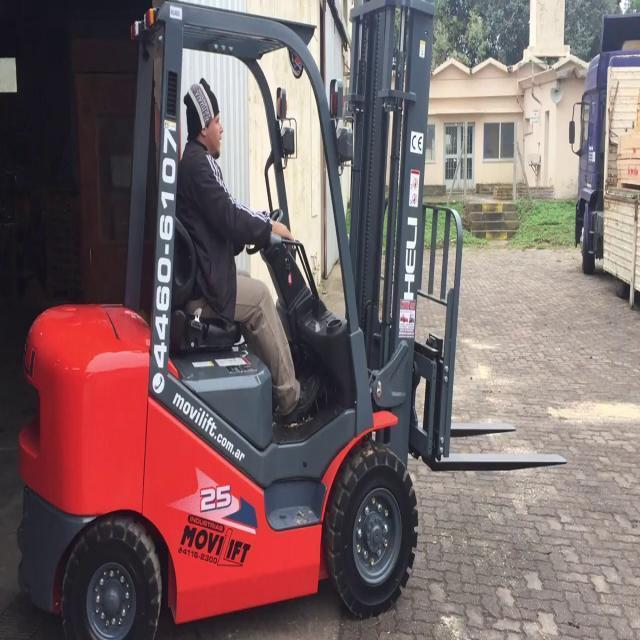forklift: (27, 14, 401, 615)
